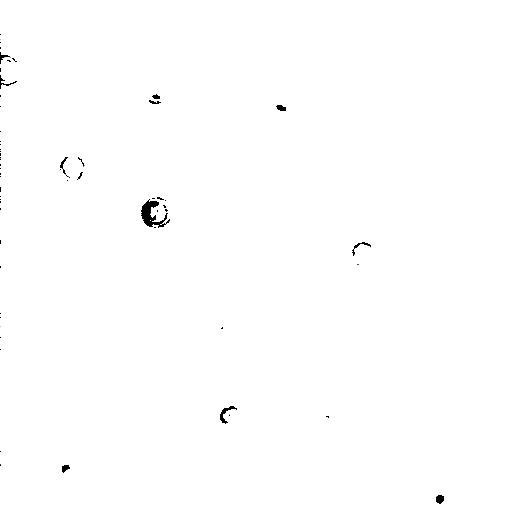micro-algae: (477, 173, 511, 226), (137, 193, 174, 229), (263, 90, 298, 121), (422, 483, 457, 511), (60, 152, 87, 182), (53, 457, 79, 487), (348, 241, 374, 267), (2, 53, 23, 85), (219, 405, 240, 425)
